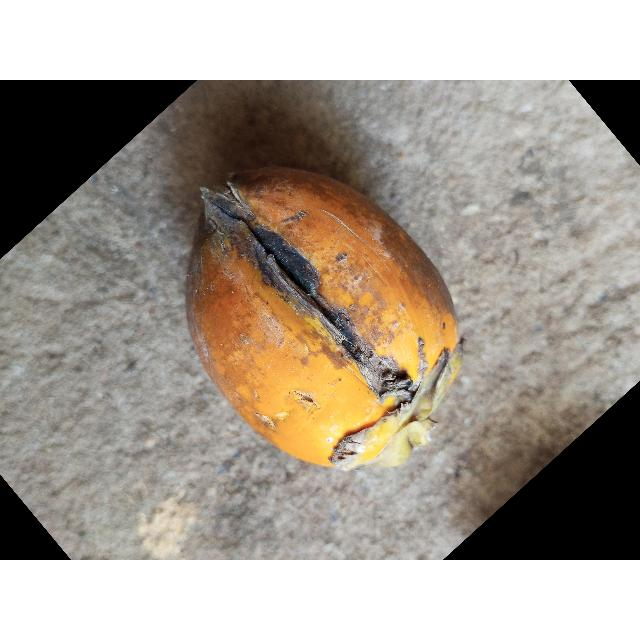damaged: (184, 168, 461, 472)
